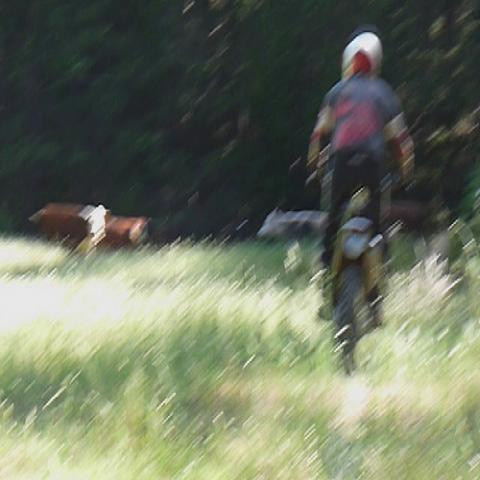motorcycle: (329, 152, 384, 384)
